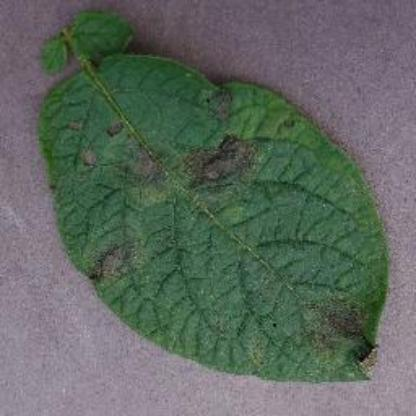Late-Blight: (27, 8, 396, 394)
